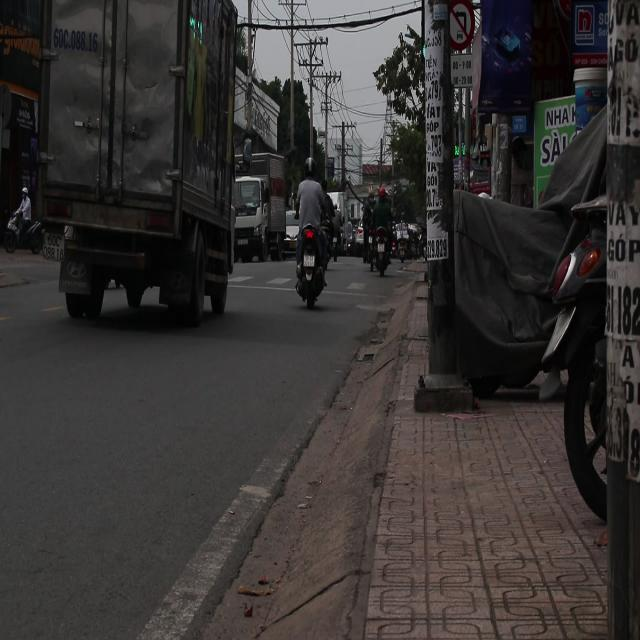motorbike: (291, 182, 328, 316), (1, 182, 47, 254), (364, 194, 396, 284), (327, 203, 347, 274), (358, 206, 378, 273)
truck: (6, 2, 275, 321), (234, 161, 280, 265)
